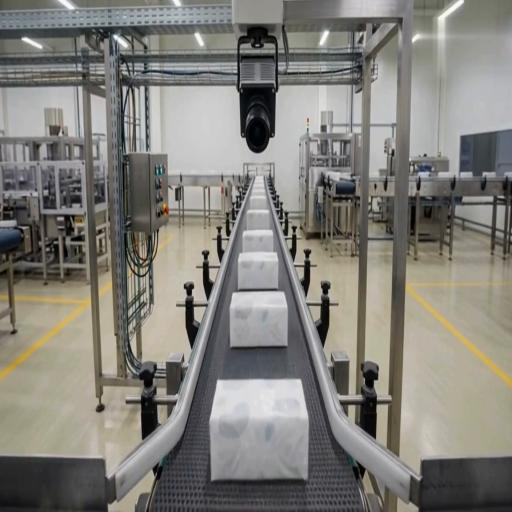good: (210, 380, 309, 480), (230, 292, 287, 347), (238, 252, 279, 291), (243, 230, 273, 252), (247, 209, 269, 230), (250, 194, 268, 210)
